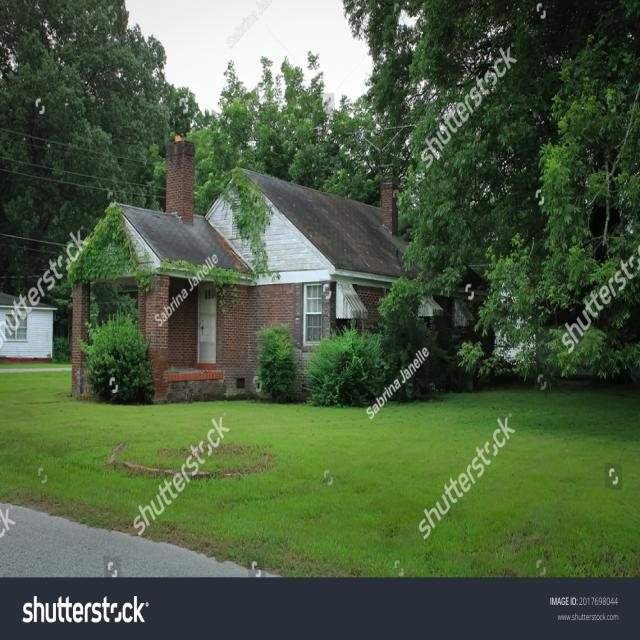House: (56, 157, 408, 402)
